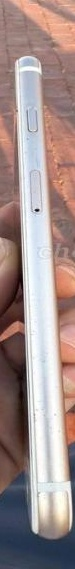scratch: (28, 342, 69, 447), (26, 477, 68, 514), (12, 103, 38, 157)
